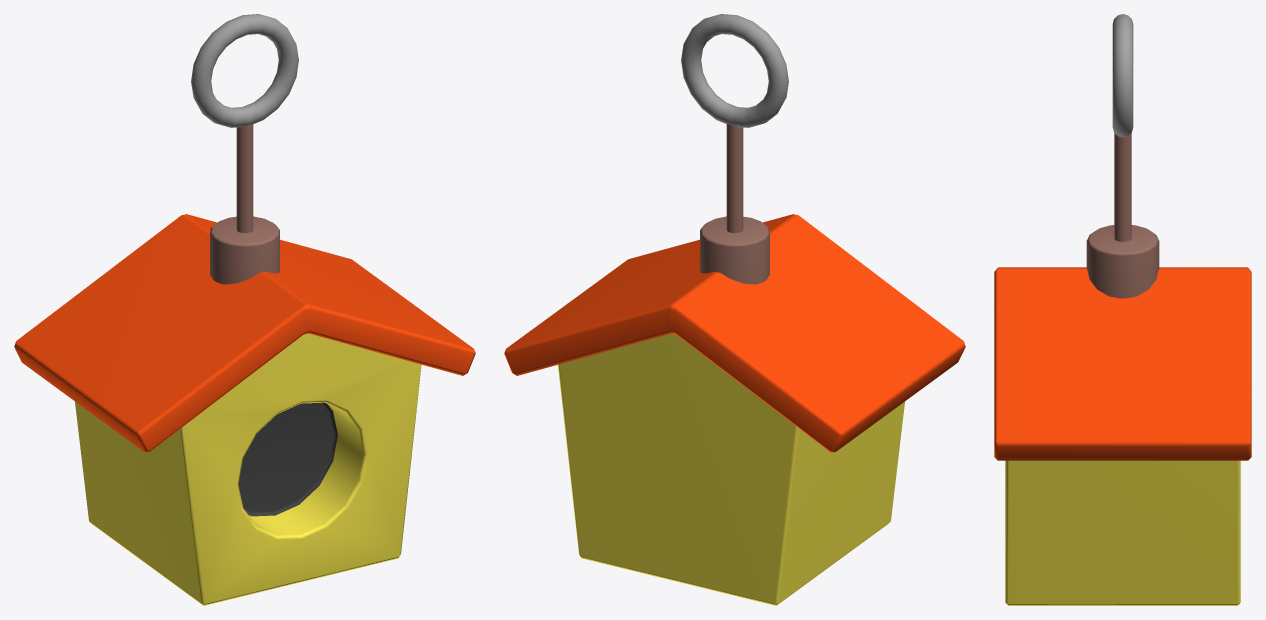
File: Farm_11_Birdhouse_1.glb
3 views of the same model, side by side, from view 1: azimuth 30°, elevation 25°; view 2: azimuth 150°, elevation 25°; view 3: azimuth 270°, elevation 25° (orthographic). The views are drawn at different scales.
Visible parts, largest first — view 1: Farm_11_Birdhouse_1; view 2: Farm_11_Birdhouse_1; view 3: Farm_11_Birdhouse_1.
Boxes of the visible parts, x1=… form: Farm_11_Birdhouse_1: x1=14, y1=14, x2=475, y2=605; Farm_11_Birdhouse_1: x1=504, y1=14, x2=965, y2=605; Farm_11_Birdhouse_1: x1=994, y1=14, x2=1251, y2=605.
Bounding box in the file's own units: 0.6161 × 0.9116 × 0.3952.
1 material, 1 textured.
